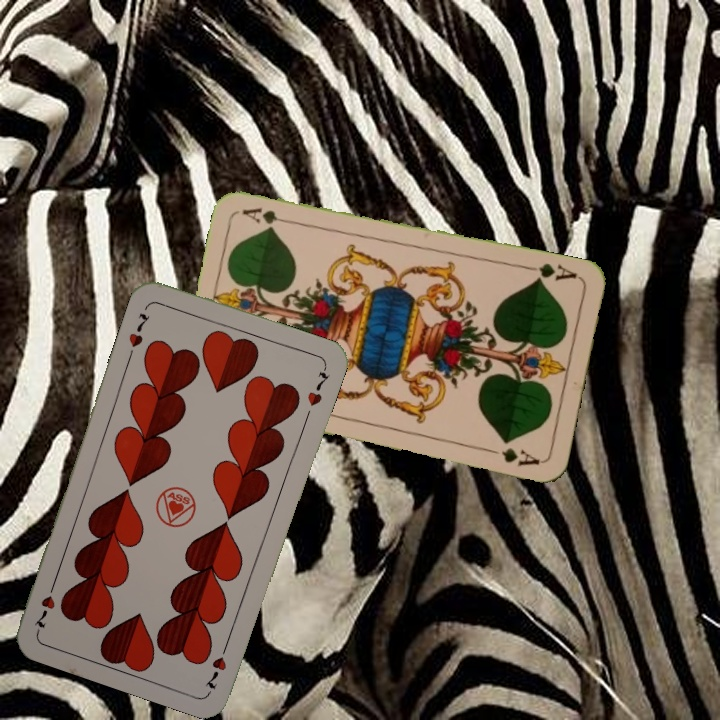GA: (522, 259, 579, 285)
H7: (202, 637, 232, 692), (124, 309, 153, 350)
